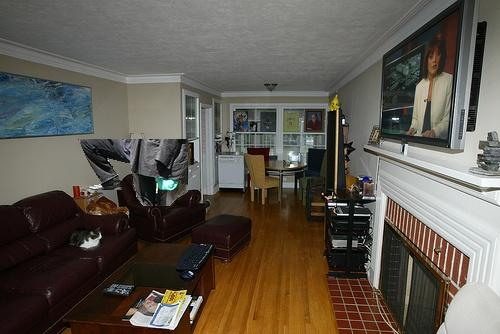tampered: (79, 140, 188, 206)
